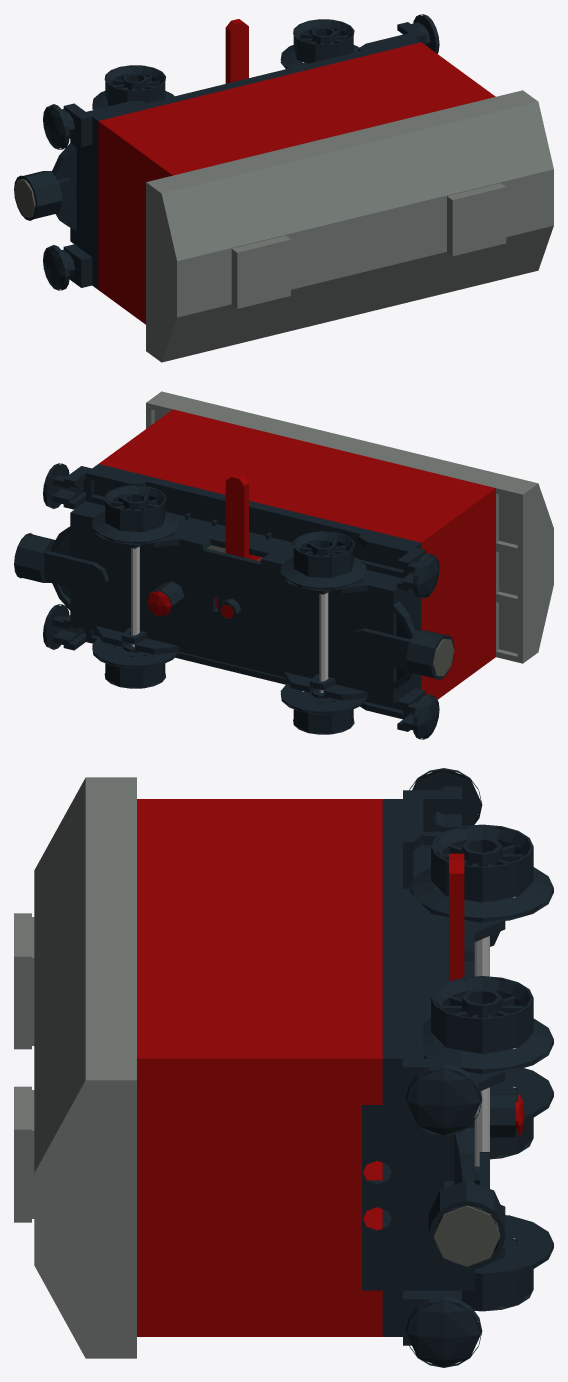
File: wagon.glb
The picture shows the model from 3 angles, top to bottom: view 1: azimuth 30°, elevation 25°; view 2: azimuth 150°, elevation 25°; view 3: azimuth 270°, elevation 25°; orthographic projection. The views are drawn at different scales.
Bounding box in the file's own units: 125 × 62.4 × 84.4.
